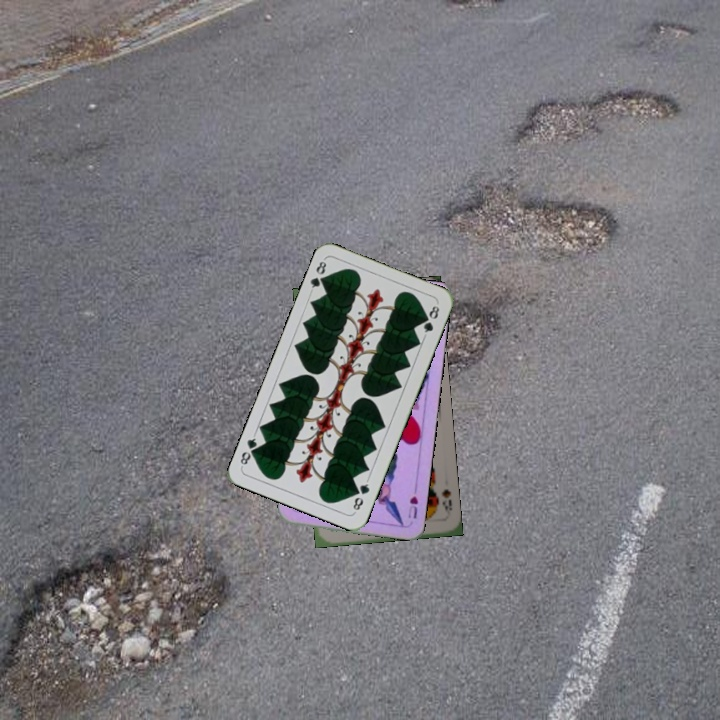G8: (349, 476, 372, 515), (306, 257, 330, 294)
HU: (404, 484, 421, 521)
S8: (437, 485, 455, 518)
